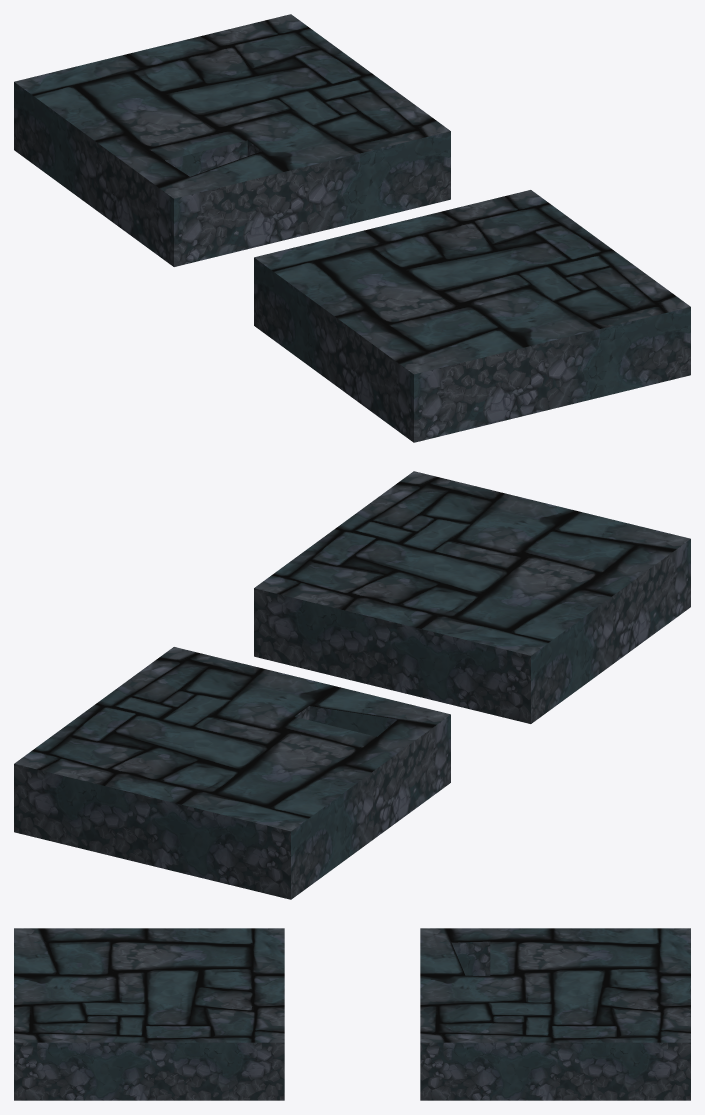
File: Test Modular Destroyed.fbx
3 renders of one model, top to bottom at view 1: azimuth 30°, elevation 25°; view 2: azimuth 150°, elevation 25°; view 3: azimuth 270°, elevation 25°, orthographic. The views are drawn at different scales.
Visible parts, largest first — view 1: Wall_Tile, Wall_Tile.001; view 2: Wall_Tile, Wall_Tile.001; view 3: Wall_Tile, Wall_Tile.001.
Boxes of the visible parts, x1,y1,x2,y2 form: Wall_Tile: (14,14,450,266); Wall_Tile.001: (254,190,690,442); Wall_Tile: (14,647,450,899); Wall_Tile.001: (254,471,690,723); Wall_Tile: (420,928,690,1100); Wall_Tile.001: (14,928,284,1100).
Size of the model in its own units: 200 by 47.16 by 500.
